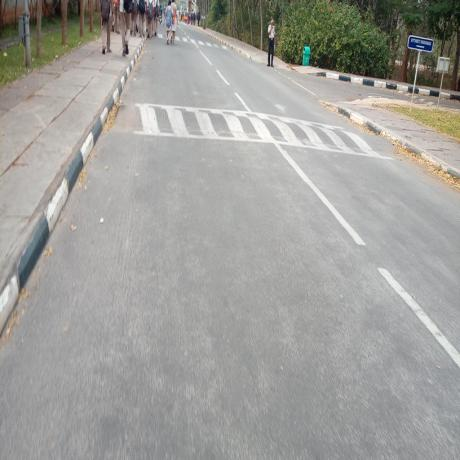Speed Bump: (117, 99, 388, 160)
